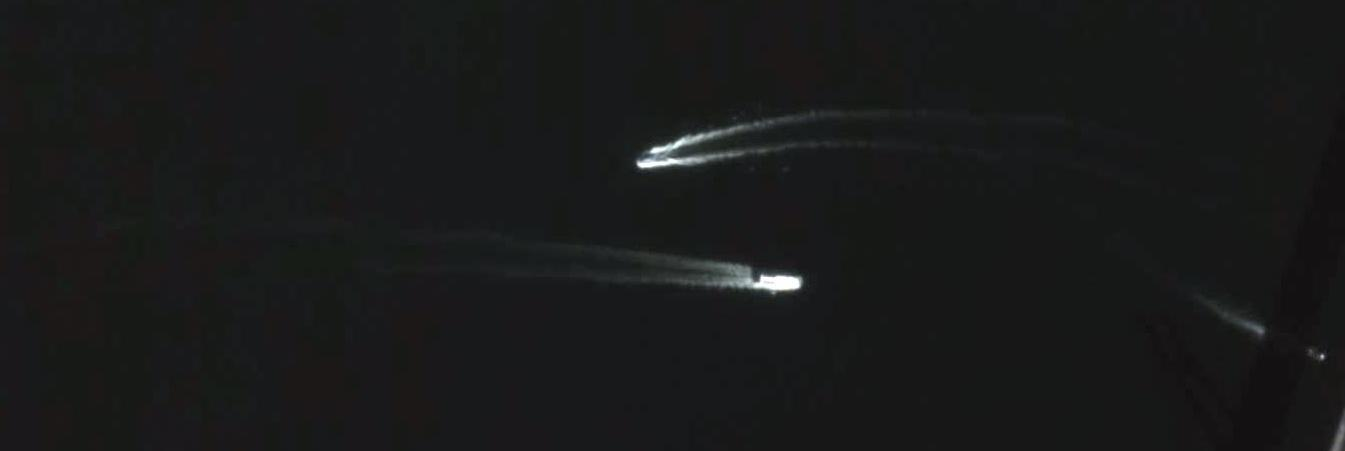person: (760, 273, 802, 291), (1302, 347, 1328, 362), (640, 154, 659, 163)
